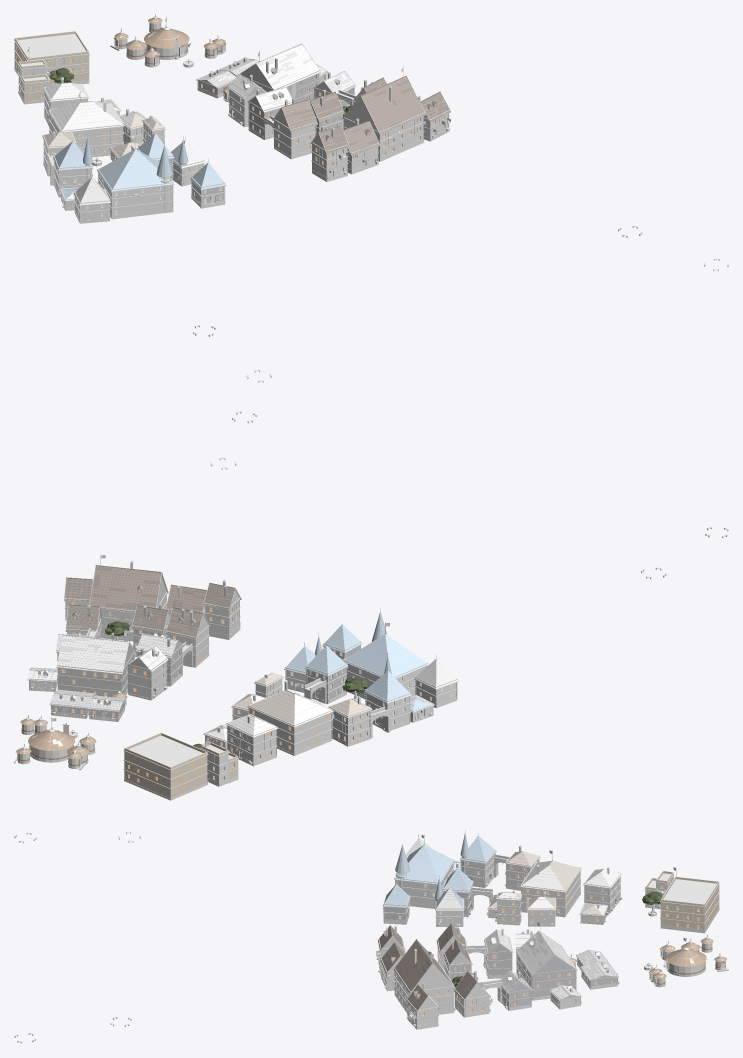
File: bld_razas.glb
The picture shows the model from 3 angles, top to bottom: view 1: azimuth 30°, elevation 25°; view 2: azimuth 150°, elevation 25°; view 3: azimuth 270°, elevation 25°; orthographic projection. The views are drawn at different scales.
Visible parts, largest first — view 1: CasaRaza_03_Roof, CasaRaza_04_Roof, CasaRaza_04_Body, CasaRaza_03_Body, CasaRaza_01_Roof, CasaRaza_02_Roof, CasaRaza_06_Roof, CasaRaza_02_Body, RAZ_B03_Casa_01_Body, RAZ_B03_Casa_04_Body, CasaRaza_06_Body, CasaRaza_05_Roof (+17 smaller); view 2: CasaRaza_03_Roof, CasaRaza_06_Body, CasaRaza_01_Roof, CasaRaza_04_Roof, CasaRaza_02_Body, CasaRaza_01_Body, CasaRaza_02_Roof, CasaRaza_06_Roof, RAZ_B02_Casa_01_Body, RAZ_B01_Casa_05_Body, RAZ_B02_Casa_03_Body, RAZ_B03_Casa_04_Body (+21 smaller); view 3: CasaRaza_06_Body, CasaRaza_04_Roof, CasaRaza_01_Body, CasaRaza_03_Body, CasaRaza_02_Roof, CasaRaza_03_Roof, CasaRaza_01_Roof, CasaRaza_06_Roof, CasaRaza_02_Body, CasaRaza_04_Body, RAZ_B03_Casa_03_Body, RAZ_B02_Casa_01_Body (+28 smaller).
Boxes of the visible parts, x1,y1,x2,y2 form: CasaRaza_03_Roof: (341,75,425,134); CasaRaza_04_Roof: (97,142,174,192); CasaRaza_04_Body: (97,161,173,219); CasaRaza_03_Body: (343,97,424,161); CasaRaza_01_Roof: (237,43,320,89); CasaRaza_02_Roof: (48,101,124,132); CasaRaza_06_Roof: (14,31,88,60); CasaRaza_02_Body: (49,103,123,157); RAZ_B03_Casa_01_Body: (273,109,316,159); RAZ_B03_Casa_04_Body: (311,134,348,181); CasaRaza_06_Body: (14,40,89,86); CasaRaza_05_Roof: (125,25,189,57); CasaRaza_03_Roof: (89,561,168,613); CasaRaza_06_Body: (123,750,208,800); CasaRaza_01_Roof: (56,633,136,674); CasaRaza_04_Roof: (343,608,428,678); CasaRaza_02_Body: (248,690,334,755); CasaRaza_01_Body: (57,644,134,696); CasaRaza_02_Roof: (247,680,333,727); CasaRaza_06_Roof: (124,732,207,769); RAZ_B02_Casa_01_Body: (226,714,277,766); RAZ_B01_Casa_05_Body: (127,652,167,700); RAZ_B02_Casa_03_Body: (329,698,371,746); RAZ_B03_Casa_04_Body: (204,590,240,639); CasaRaza_06_Body: (660,883,719,933); CasaRaza_04_Roof: (394,844,454,884); CasaRaza_01_Body: (516,945,576,1000); CasaRaza_03_Body: (394,963,454,1014); CasaRaza_02_Roof: (520,860,581,892); CasaRaza_03_Roof: (393,939,455,993); CasaRaza_01_Roof: (515,930,577,975); CasaRaza_06_Roof: (660,877,719,906); CasaRaza_02_Body: (520,862,581,917); CasaRaza_04_Body: (394,854,453,908); RAZ_B03_Casa_03_Body: (454,982,492,1017); RAZ_B02_Casa_01_Body: (583,869,621,913).
Size of what is drawn, in the model's own units: 175 by 24.25 by 252.
Materials: 34 (29 with a texture image).
